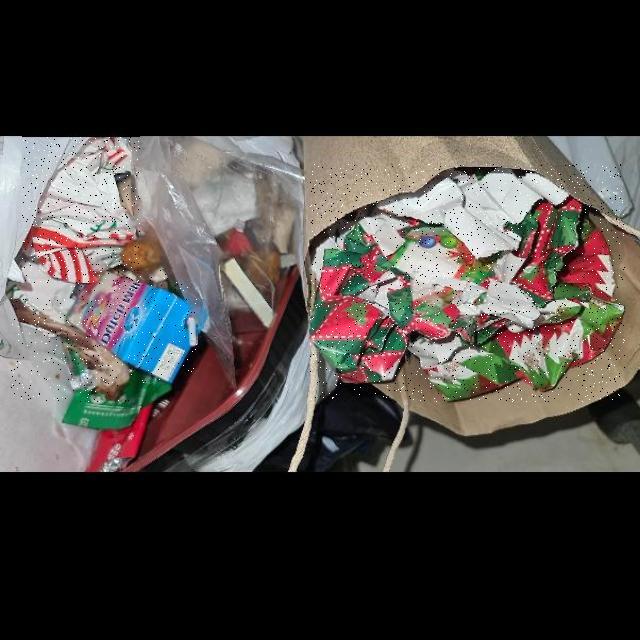biowaste: (11, 298, 130, 402)
paper: (311, 164, 625, 401), (22, 136, 140, 283), (70, 269, 197, 383)
